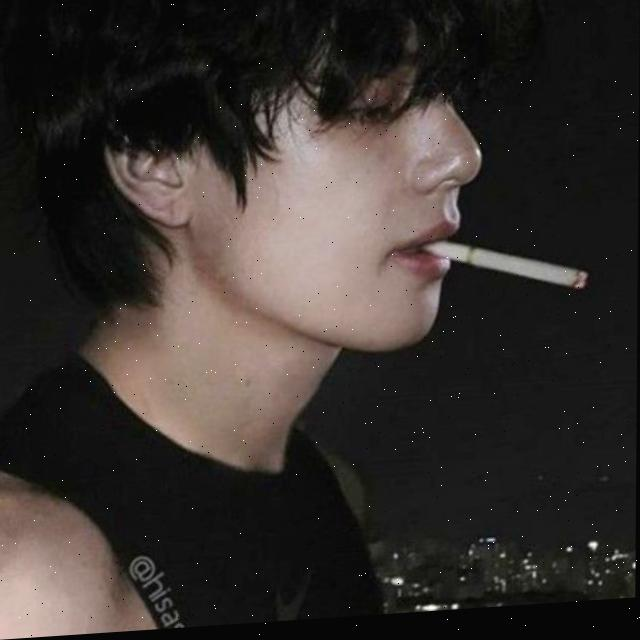cigarette: (422, 239, 588, 306)
